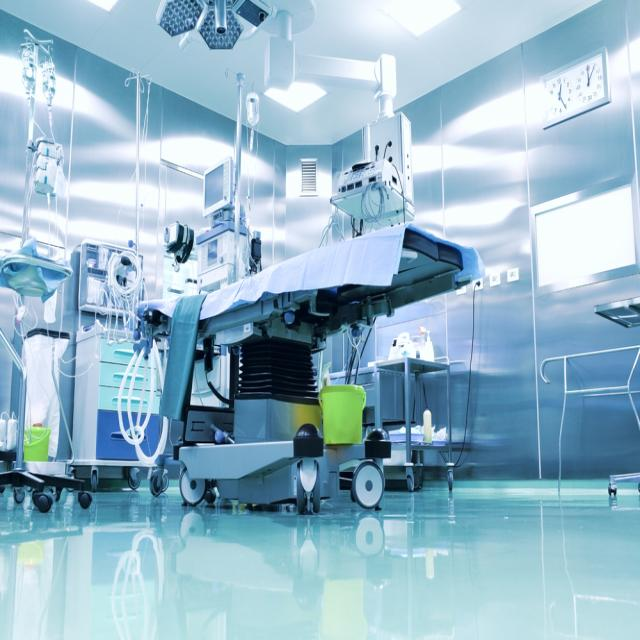iv_fluids: (24, 43, 78, 231)
lightings: (151, 3, 262, 50)
patient_bed: (155, 218, 501, 425)
